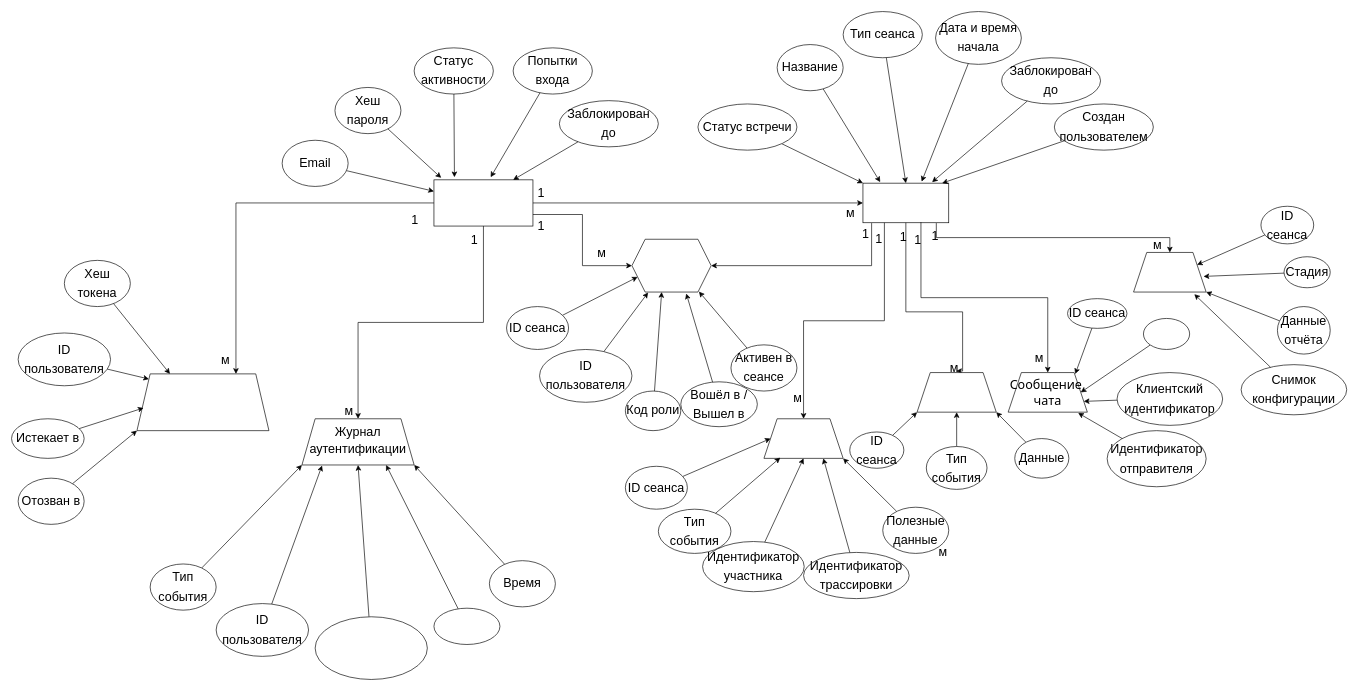
Image size: 1358x691. Some labels were removed from this diagram. The shapes that lost their labels are listed below. From the top down, each one's centre as x and y in pixels, then its label:
At (483,202): "Пользователь системы".
At (905,202): "Сеанс видеовстречи".
At (671,265): "Участник встречи".
At (1169,272): "Отчёт по сеансу".
At (1166,333): "Текст".
At (202,402): "Токен обновления сессии".
At (956,392): "Событие встречи".
At (803,438): "Событие аналитики".
At (466,626): "Адрес".
At (370,647): "Дополнительные данные".
